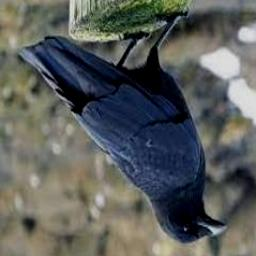Crow: (18, 10, 225, 246)
